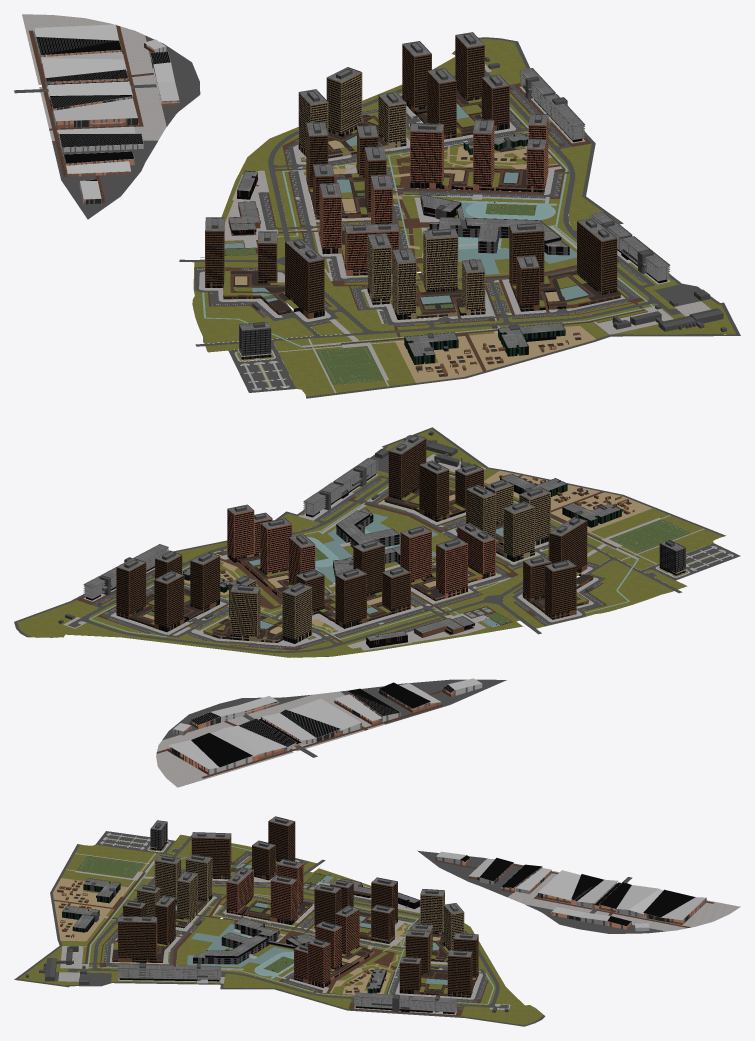
File: Tarasovka_3Dmaket.glb
3 views of the same model, one above another, from view 1: azimuth 30°, elevation 25°; view 2: azimuth 150°, elevation 25°; view 3: azimuth 270°, elevation 25° (orthographic). The views are drawn at different scales.
Visible parts, largest first — view 1: -f_glass, _green, _road1, -f_brown, -Sklad_roof, -f_yellow, _trotuar_dark, _trotuar_1, _road2, -f_roof, _place_bezh, -f_red (+46 smaller); view 2: -f_glass, _green, -f_brown, _road1, -f_red, -f_yellow, _trotuar_1, -Sklad_roof, -f_roof, _trotuar_dark, _road2, -Sklad_roofglass (+34 smaller); view 3: -f_glass, _green, -f_brown, _road1, -f_red, -f_yellow, -Sklad_roof, _road2, _trotuar_dark, -f_roof1, _place_bezh, -f_roof (+42 smaller).
Boxes of the visible parts, x1,y1,x2,y2 form: -f_glass: (205, 37, 617, 355); _green: (192, 38, 735, 396); _road1: (14, 35, 654, 392); -f_brown: (205, 35, 617, 313); -Sklad_roof: (34, 24, 179, 199); -f_yellow: (298, 72, 485, 314); _trotuar_dark: (195, 83, 647, 371); _trotuar_1: (199, 64, 670, 386); _road2: (179, 37, 740, 398); -f_roof: (205, 32, 616, 271); _place_bezh: (235, 135, 595, 382); -f_red: (319, 114, 548, 270); -f_glass: (116, 439, 685, 641); _green: (17, 429, 723, 657); -f_brown: (116, 438, 587, 627); _road1: (91, 475, 740, 757); -f_red: (227, 509, 495, 593); -f_yellow: (229, 480, 550, 639); _trotuar_1: (63, 474, 670, 650); -Sklad_roof: (168, 678, 481, 768); -f_roof: (117, 434, 586, 595); _trotuar_dark: (77, 473, 640, 650); _road2: (14, 427, 725, 652); -Sklad_roofglass: (190, 682, 453, 767); -f_glass: (118, 822, 478, 995); _green: (18, 834, 543, 1025); -f_brown: (118, 821, 478, 993); _road1: (95, 831, 665, 1009); -f_red: (226, 863, 359, 984); -f_yellow: (137, 858, 464, 957); -Sklad_roof: (436, 851, 705, 927); _road2: (14, 834, 545, 1026); _trotuar_dark: (54, 851, 488, 1016); -f_roof1: (62, 878, 456, 1003); _place_bezh: (53, 865, 440, 994); -f_roof: (118, 816, 478, 963).
Size of the model in its own units: 843 by 87.16 by 1324.
Materials: 27 (17 with a texture image).
